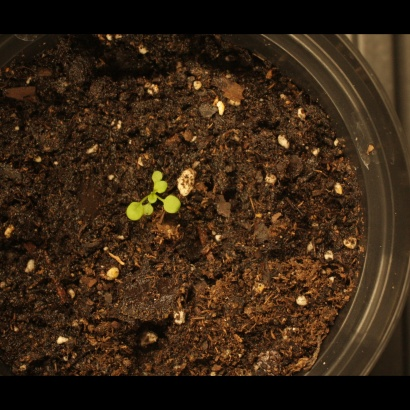leaf: (156, 176, 181, 199), (121, 199, 144, 222), (163, 195, 186, 218), (142, 205, 165, 228), (142, 159, 165, 182), (144, 185, 167, 208)
